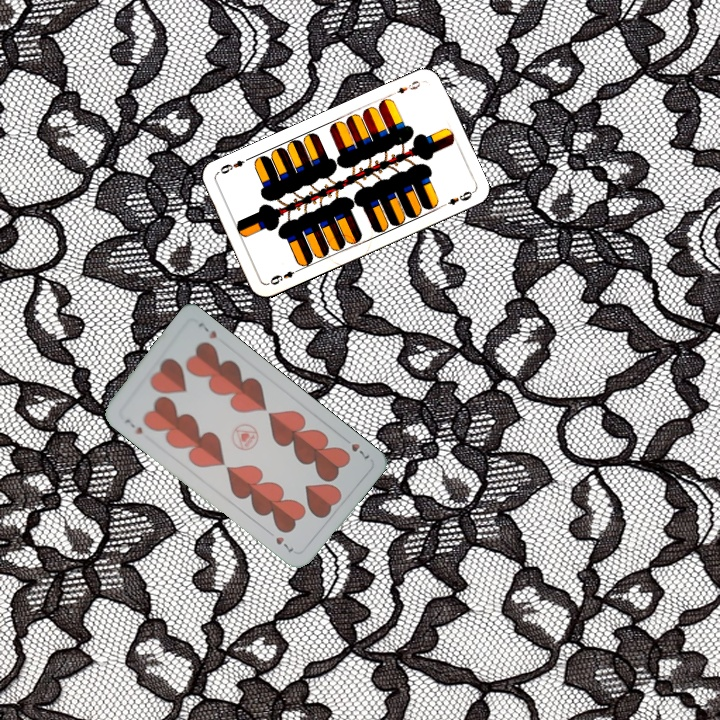E9: (266, 265, 303, 288), (393, 77, 423, 96)
H7: (339, 433, 372, 463), (121, 415, 145, 437)
